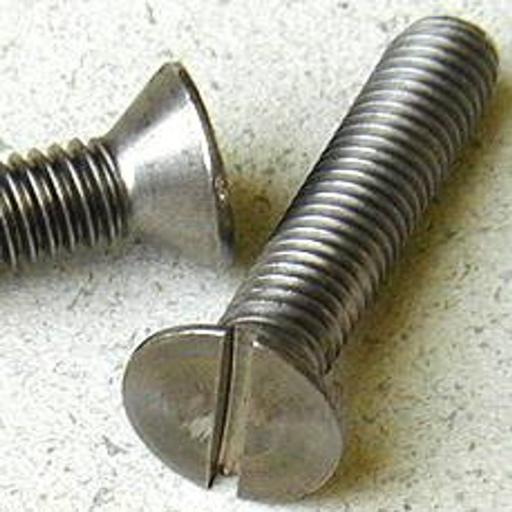Slotted: (119, 322, 348, 503)
